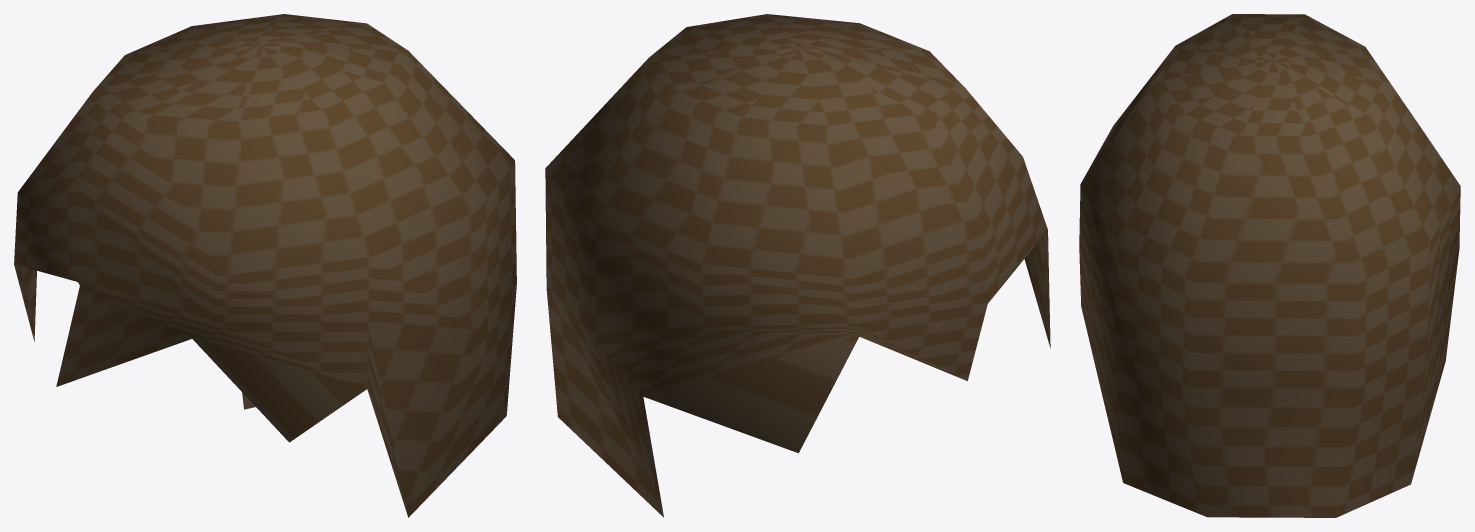
File: Cheveux.FBX
The picture shows the model from 3 angles, left to right: view 1: azimuth 30°, elevation 25°; view 2: azimuth 150°, elevation 25°; view 3: azimuth 270°, elevation 25°; orthographic projection. The views are drawn at different scales.
Visible parts, largest first — view 1: Cheveux; view 2: Cheveux; view 3: Cheveux.
Boxes of the visible parts, left/top/right/bottom form: Cheveux: left=14, top=14, right=516, bottom=517; Cheveux: left=545, top=14, right=1050, bottom=517; Cheveux: left=1079, top=14, right=1460, bottom=517.
Bounding box in the file's own units: 0.556 × 0.5218 × 0.454.
1 material, 1 textured.
